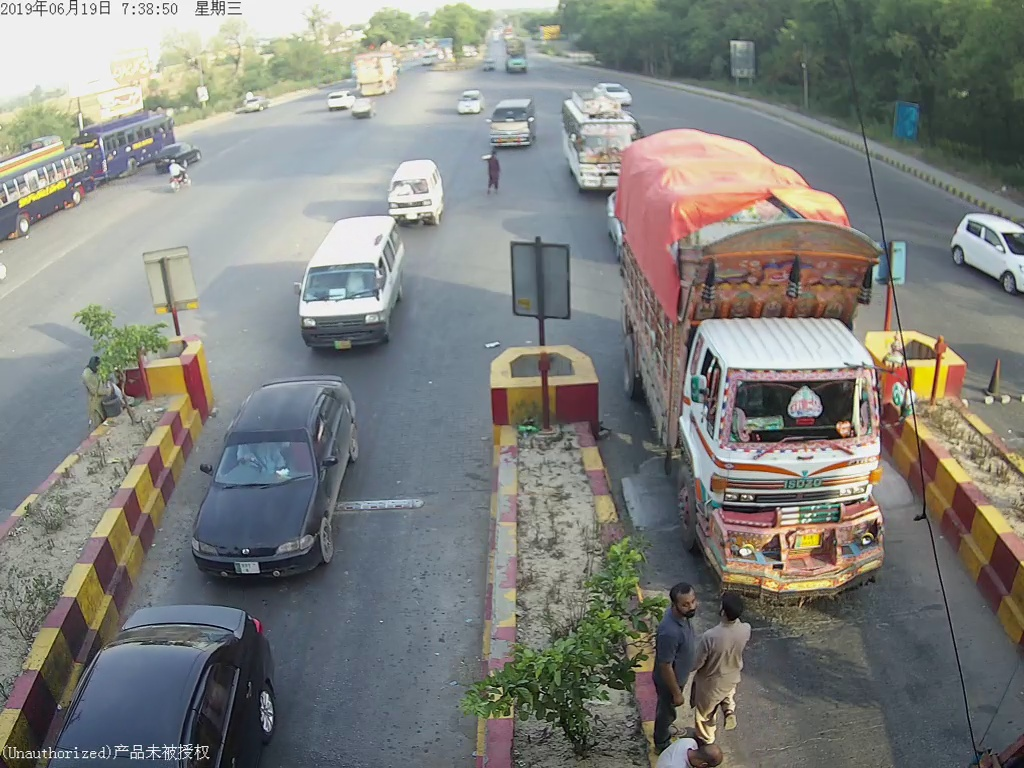Cat-1: (191, 372, 357, 572), (386, 152, 445, 231)
Cat-2: (295, 212, 405, 351), (488, 95, 541, 156)
Cat-3: (554, 81, 641, 196)
Cat-4: (617, 132, 903, 590)
